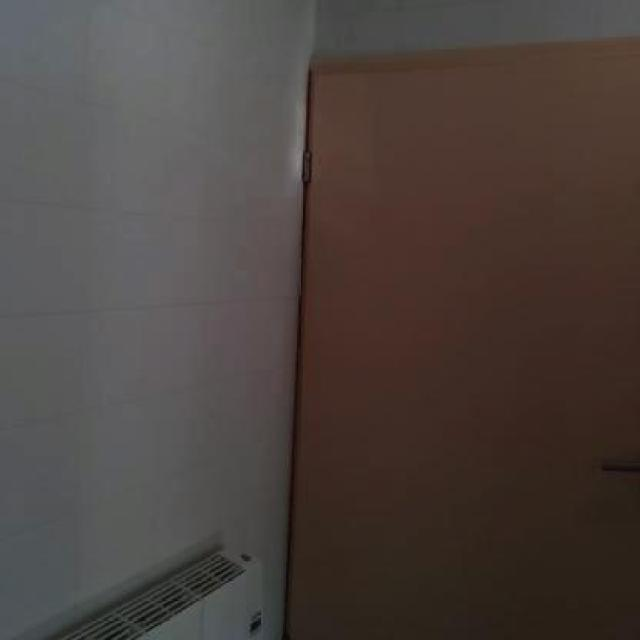door: (283, 31, 639, 638)
